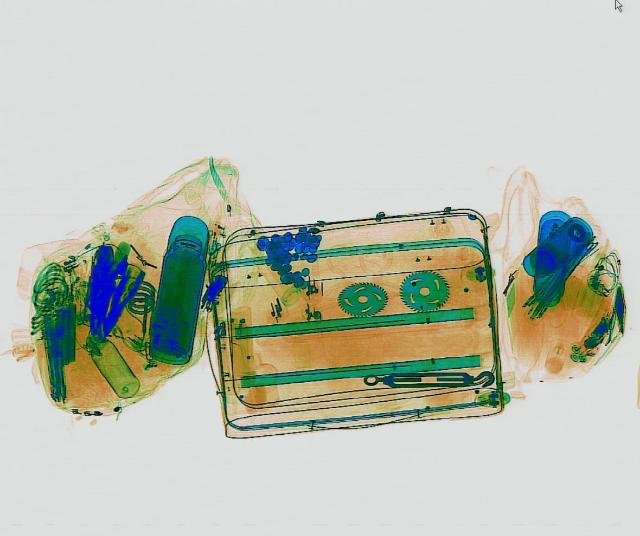Pliers: (90, 264, 148, 338)
